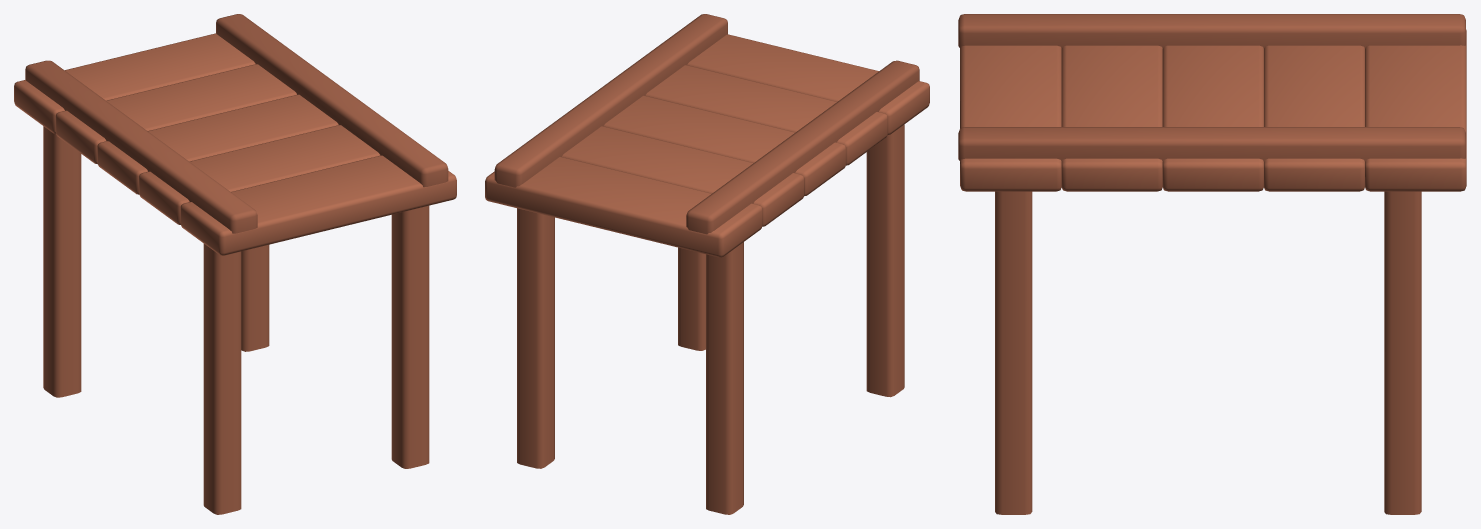
Rendered from Dock_01.fbx.
3 renders of one model, left to right at view 1: azimuth 30°, elevation 25°; view 2: azimuth 150°, elevation 25°; view 3: azimuth 270°, elevation 25°, orthographic. The views are drawn at different scales.
Parts seen in each view (by area): view 1: Dock_01; view 2: Dock_01; view 3: Dock_01.
Part boxes in pixels (x1,y1,x2,y2): Dock_01: (14, 14, 456, 514); Dock_01: (485, 14, 929, 514); Dock_01: (958, 14, 1466, 514).
Bounding box in the file's own units: 4097 × 5102 × 6248.
